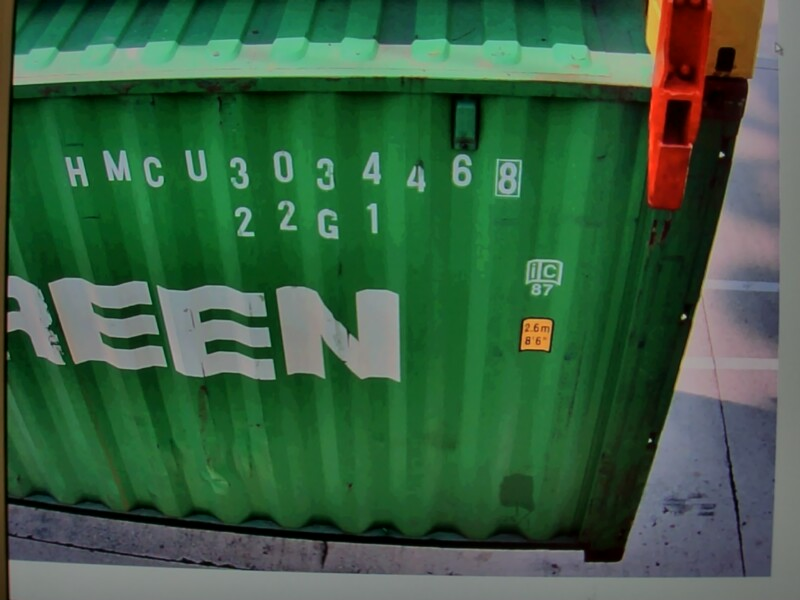container_no_door: (37, 92, 592, 530)
